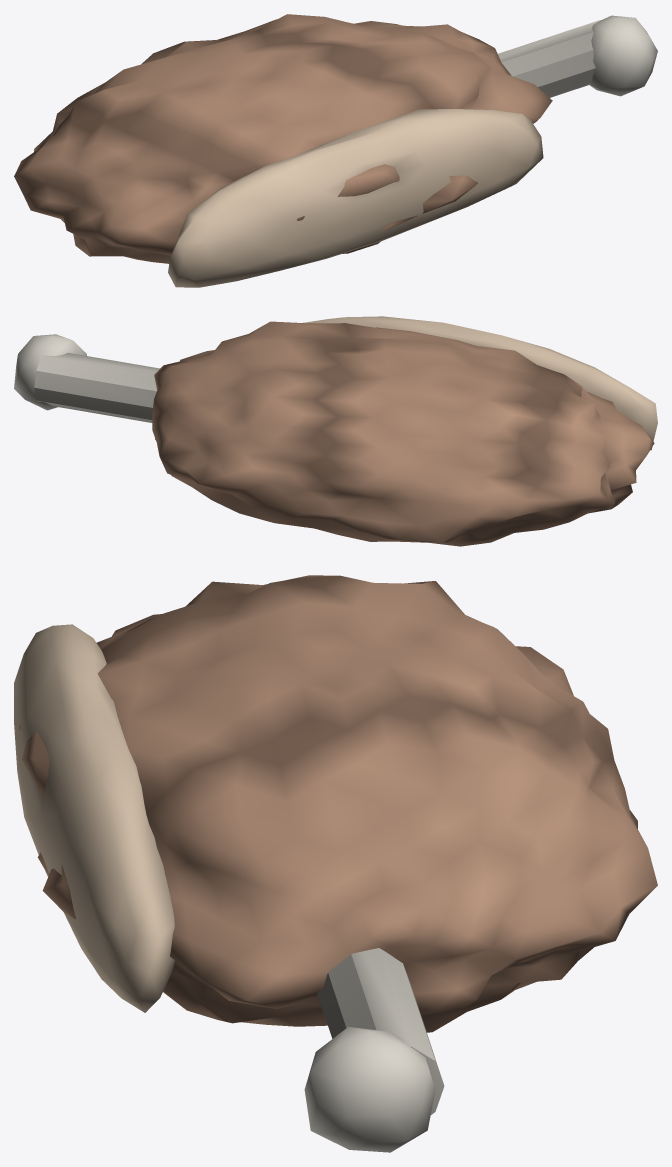
The model's file is cooked-venison.glb.
3 renders of one model, top to bottom at view 1: azimuth 30°, elevation 25°; view 2: azimuth 150°, elevation 25°; view 3: azimuth 270°, elevation 25°, orthographic. The views are drawn at different scales.
Parts seen in each view (by area): view 1: Body_lod0; view 2: Body_lod0; view 3: Body_lod0.
Part boxes in pixels (x1,y1,x2,y2): Body_lod0: [14, 14, 657, 287]; Body_lod0: [14, 316, 657, 546]; Body_lod0: [14, 575, 657, 1152].
Size of what is drawn, in the model's own units: 0.177 by 0.0348 by 0.0979.
